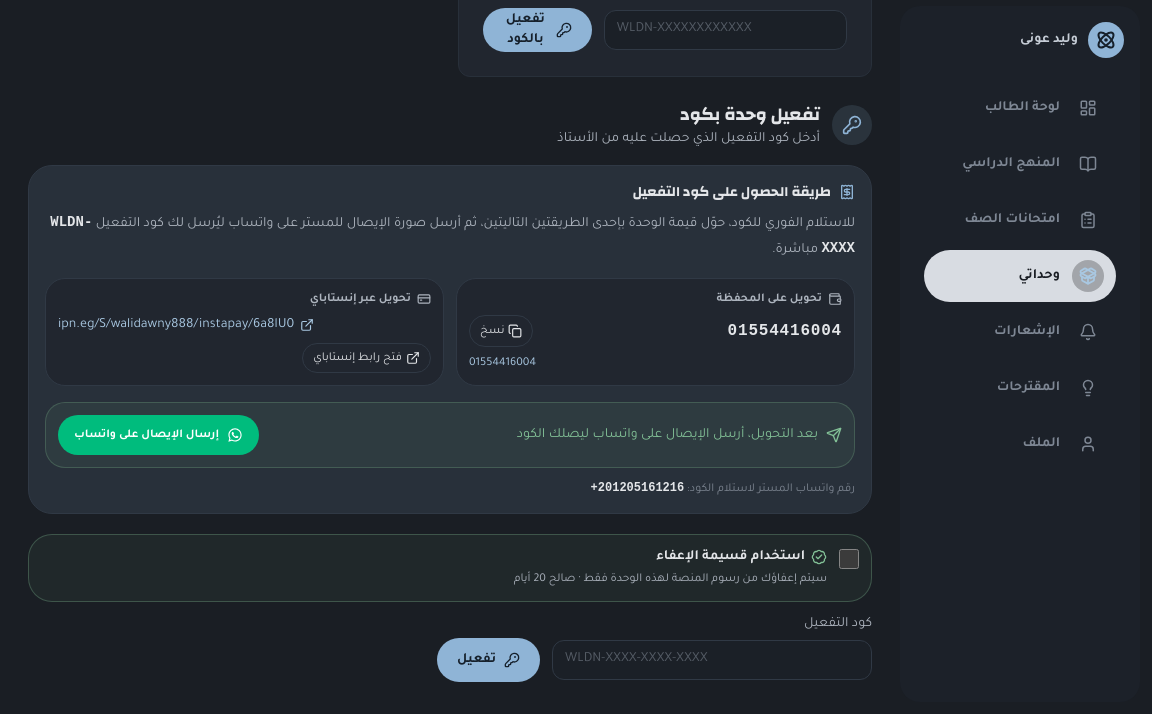
Test: UnitsPage › offers the voucher opt-in on the general redeem card and applies it on confirm
(page scrolled)
Expected: the label with test id "voucher-redeem-general" shows "استخدام قسيمة الإعفاء", [656, 550, 805, 564]
Click the checkbox with test id "voucher-redeem-general-checkbox". click: (849, 558)
box: [839, 548, 859, 568]
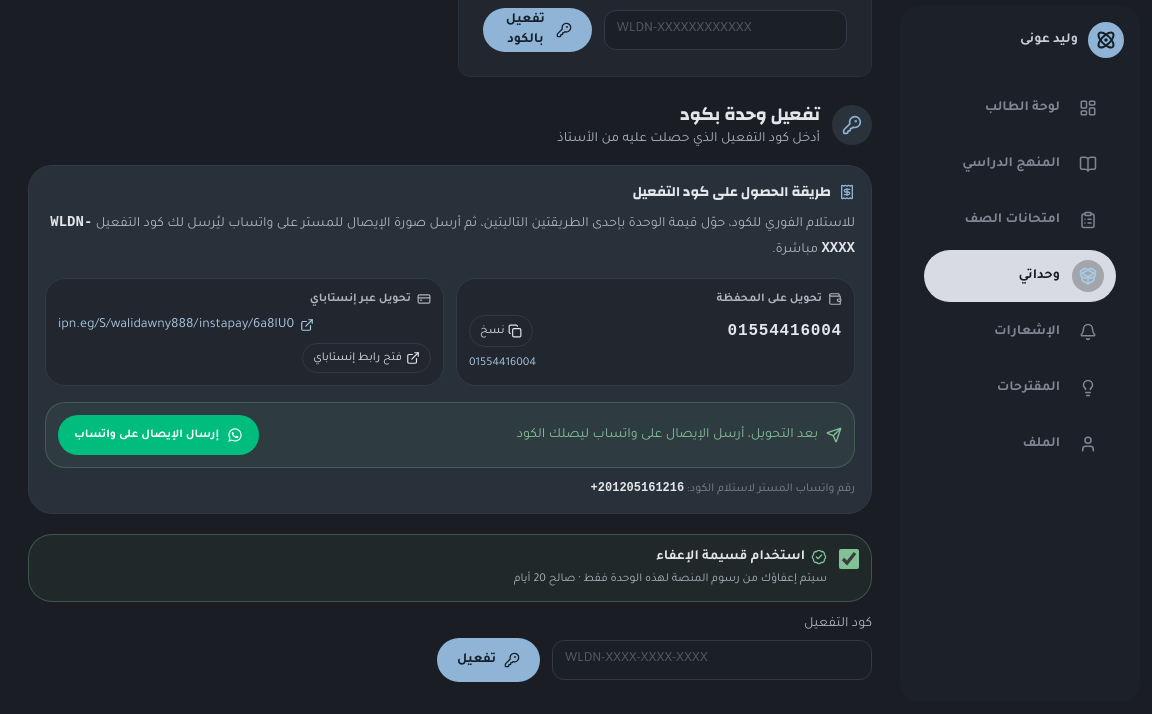
Type "WLDN-ABCD-EFGH-JKLM" into the field labelled "كود التفعيل". click: (712, 660)
box: [552, 640, 872, 680]
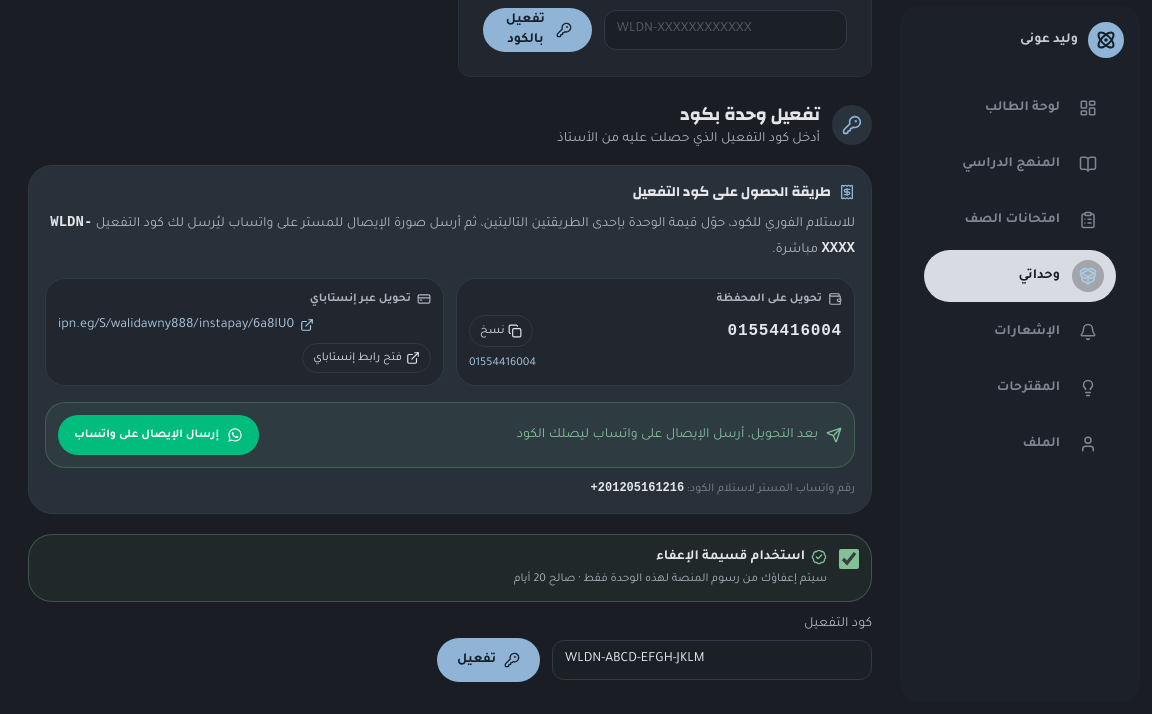
Click the button "تفعيل". click: (488, 660)
box: [437, 638, 540, 682]
(page scrolled)
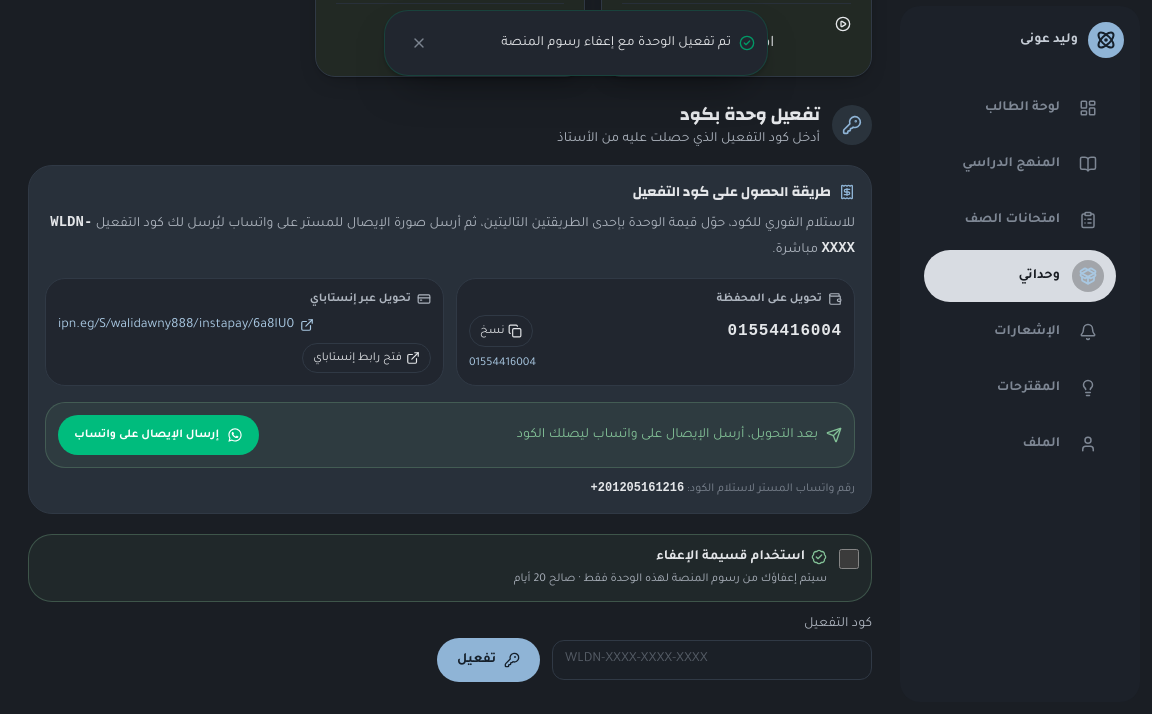
Expected: the text "تم تفعيل الوحدة مع إعفاء رسوم المنصة" is shown, [501, 36, 731, 50]
